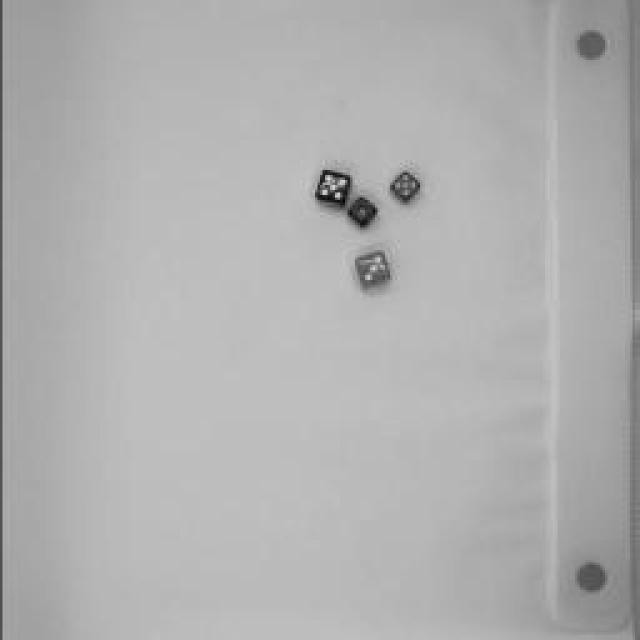dice_1: (338, 191, 384, 231)
dice_3: (349, 244, 399, 296)
dice_5: (307, 165, 355, 210), (384, 168, 426, 208)
